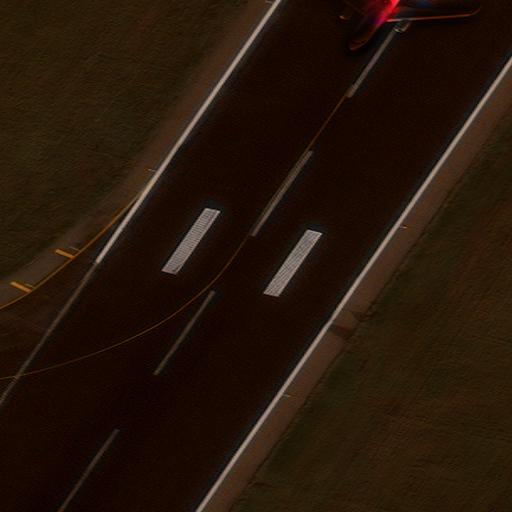Medium Civil Transport: (321, 0, 474, 50)
